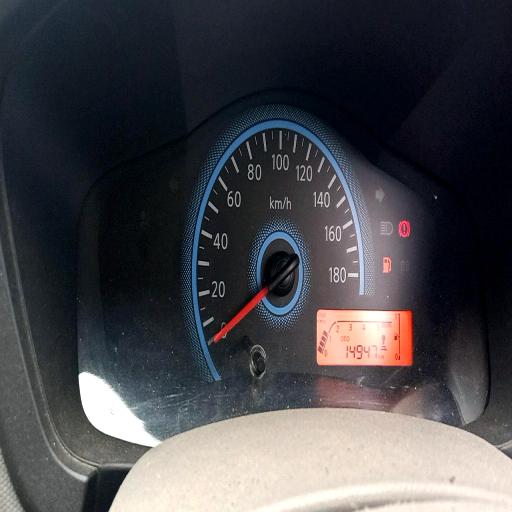brake_system_fault: (399, 220, 410, 238)
